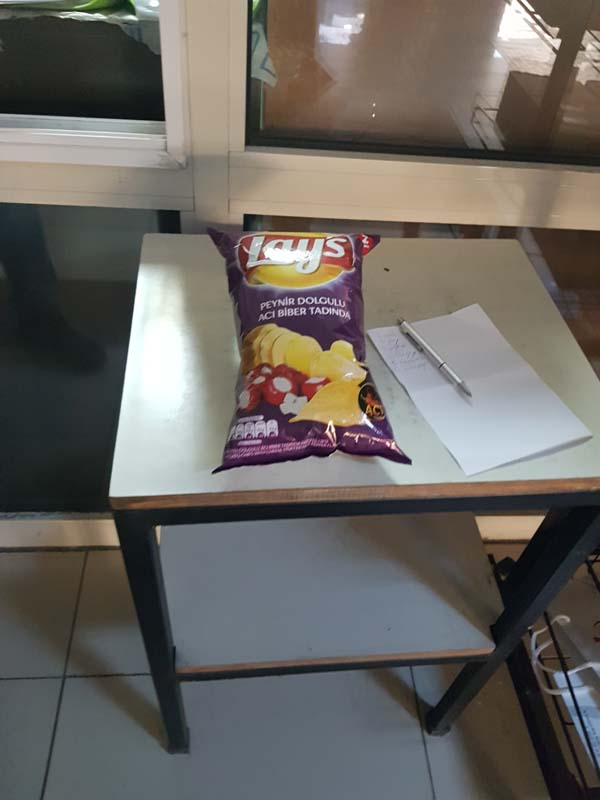layspeynirsoslu: (200, 224, 416, 476)
